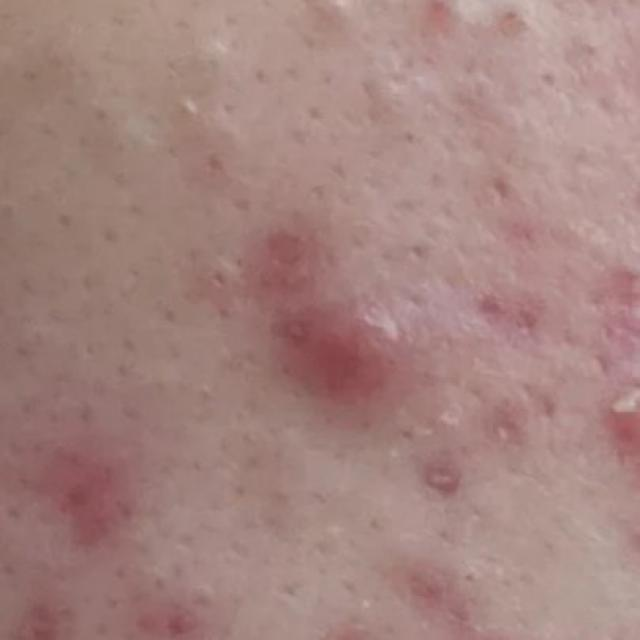nodule: (287, 298, 398, 398)
